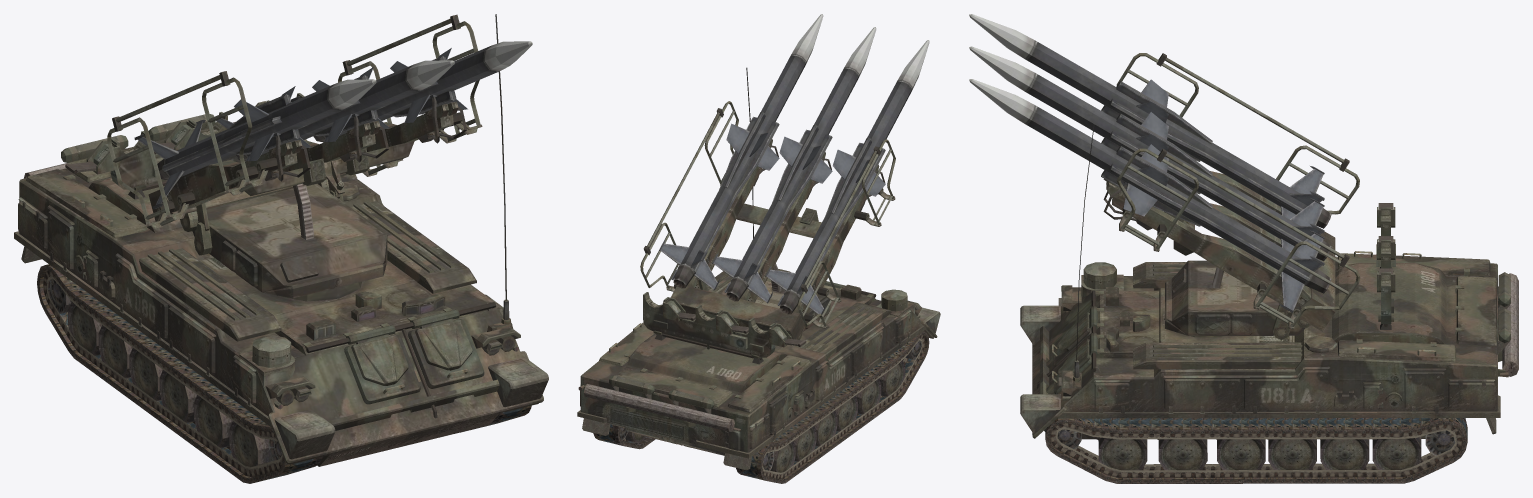
File: Tank.fbx
3 renders of one model, left to right at view 1: azimuth 30°, elevation 25°; view 2: azimuth 150°, elevation 25°; view 3: azimuth 270°, elevation 25°, orthographic. The views are drawn at different scales.
Parts seen in each view (by area): view 1: Tank; view 2: Tank; view 3: Tank.
Part boxes in pixels (x1,y1,x2,y2): Tank: (14, 14, 548, 483); Tank: (577, 14, 940, 483); Tank: (969, 14, 1518, 483).
Size of the model in its own units: 119 by 194 by 250.
2 materials, 2 textured.
